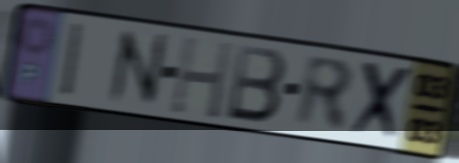B: (224, 41, 289, 127)
H: (167, 32, 236, 123)
I: (59, 19, 87, 101)
N: (105, 26, 170, 109)
R: (294, 51, 356, 137)
X: (345, 57, 417, 146)
